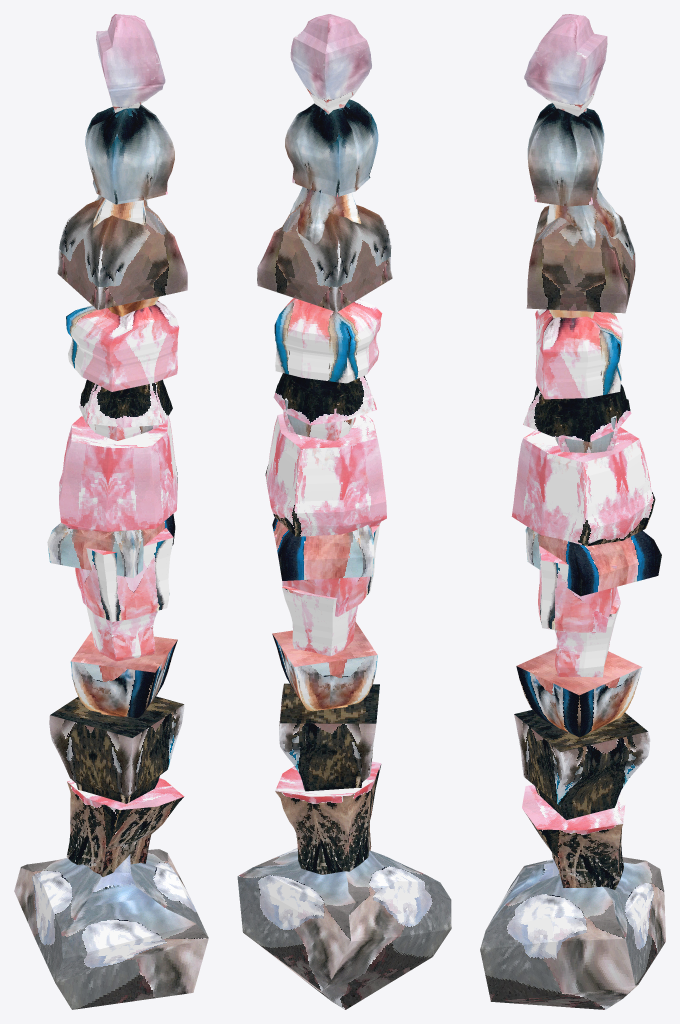
The picture shows the model from 3 angles, left to right: view 1: azimuth 30°, elevation 25°; view 2: azimuth 150°, elevation 25°; view 3: azimuth 270°, elevation 25°; orthographic projection. The views are drawn at different scales.
Parts seen in each view (by area): view 1: SPLICE_2 (×5), SPLICE_1 (×5), master (×2), SPLICE_3 (×2), splice_2; view 2: SPLICE_2 (×5), SPLICE_1 (×5), master (×2), SPLICE_3 (×2), splice_2; view 3: SPLICE_2 (×5), SPLICE_1 (×5), master (×2), SPLICE_3 (×2), splice_2.
Part boxes in pixels (box(x1,y1,x2,y2)): SPLICE_2 (×5): box(14, 104, 208, 1009); SPLICE_1 (×5): box(47, 14, 179, 577); master (×2): box(49, 200, 187, 803); SPLICE_3 (×2): box(66, 606, 184, 876); splice_2: box(93, 195, 148, 227); SPLICE_2 (×5): box(237, 99, 451, 1009); SPLICE_1 (×5): box(272, 14, 382, 580); master (×2): box(257, 205, 392, 791); SPLICE_3 (×2): box(275, 585, 381, 874); splice_2: box(290, 187, 361, 243); SPLICE_2 (×5): box(480, 103, 665, 1009); SPLICE_1 (×5): box(523, 14, 661, 596); master (×2): box(514, 205, 650, 819); SPLICE_3 (×2): box(522, 587, 625, 889); splice_2: box(545, 187, 621, 248).
Bounding box in the file's own units: 2.19 × 12.6 × 2.1.
Materials: 16 (16 with a texture image).
